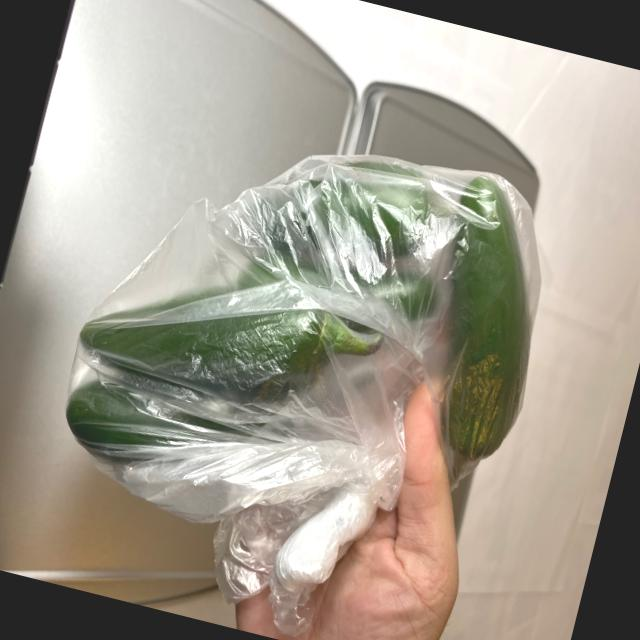chilli: (44, 72, 576, 560)
